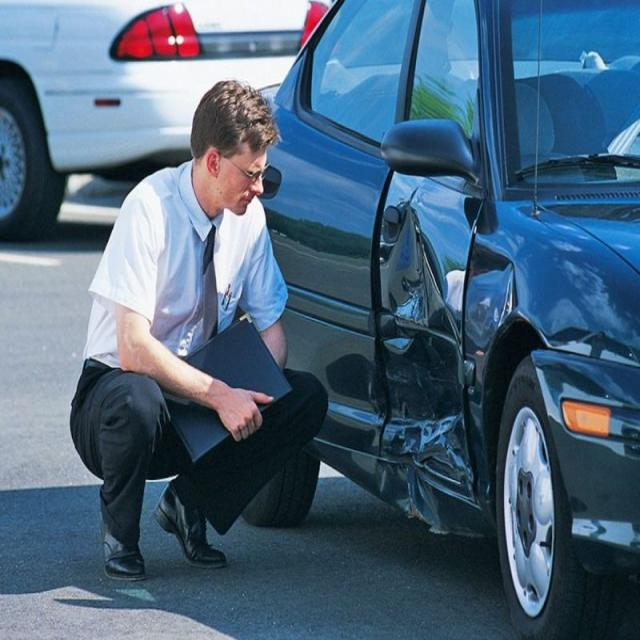dent: (367, 177, 517, 536)
